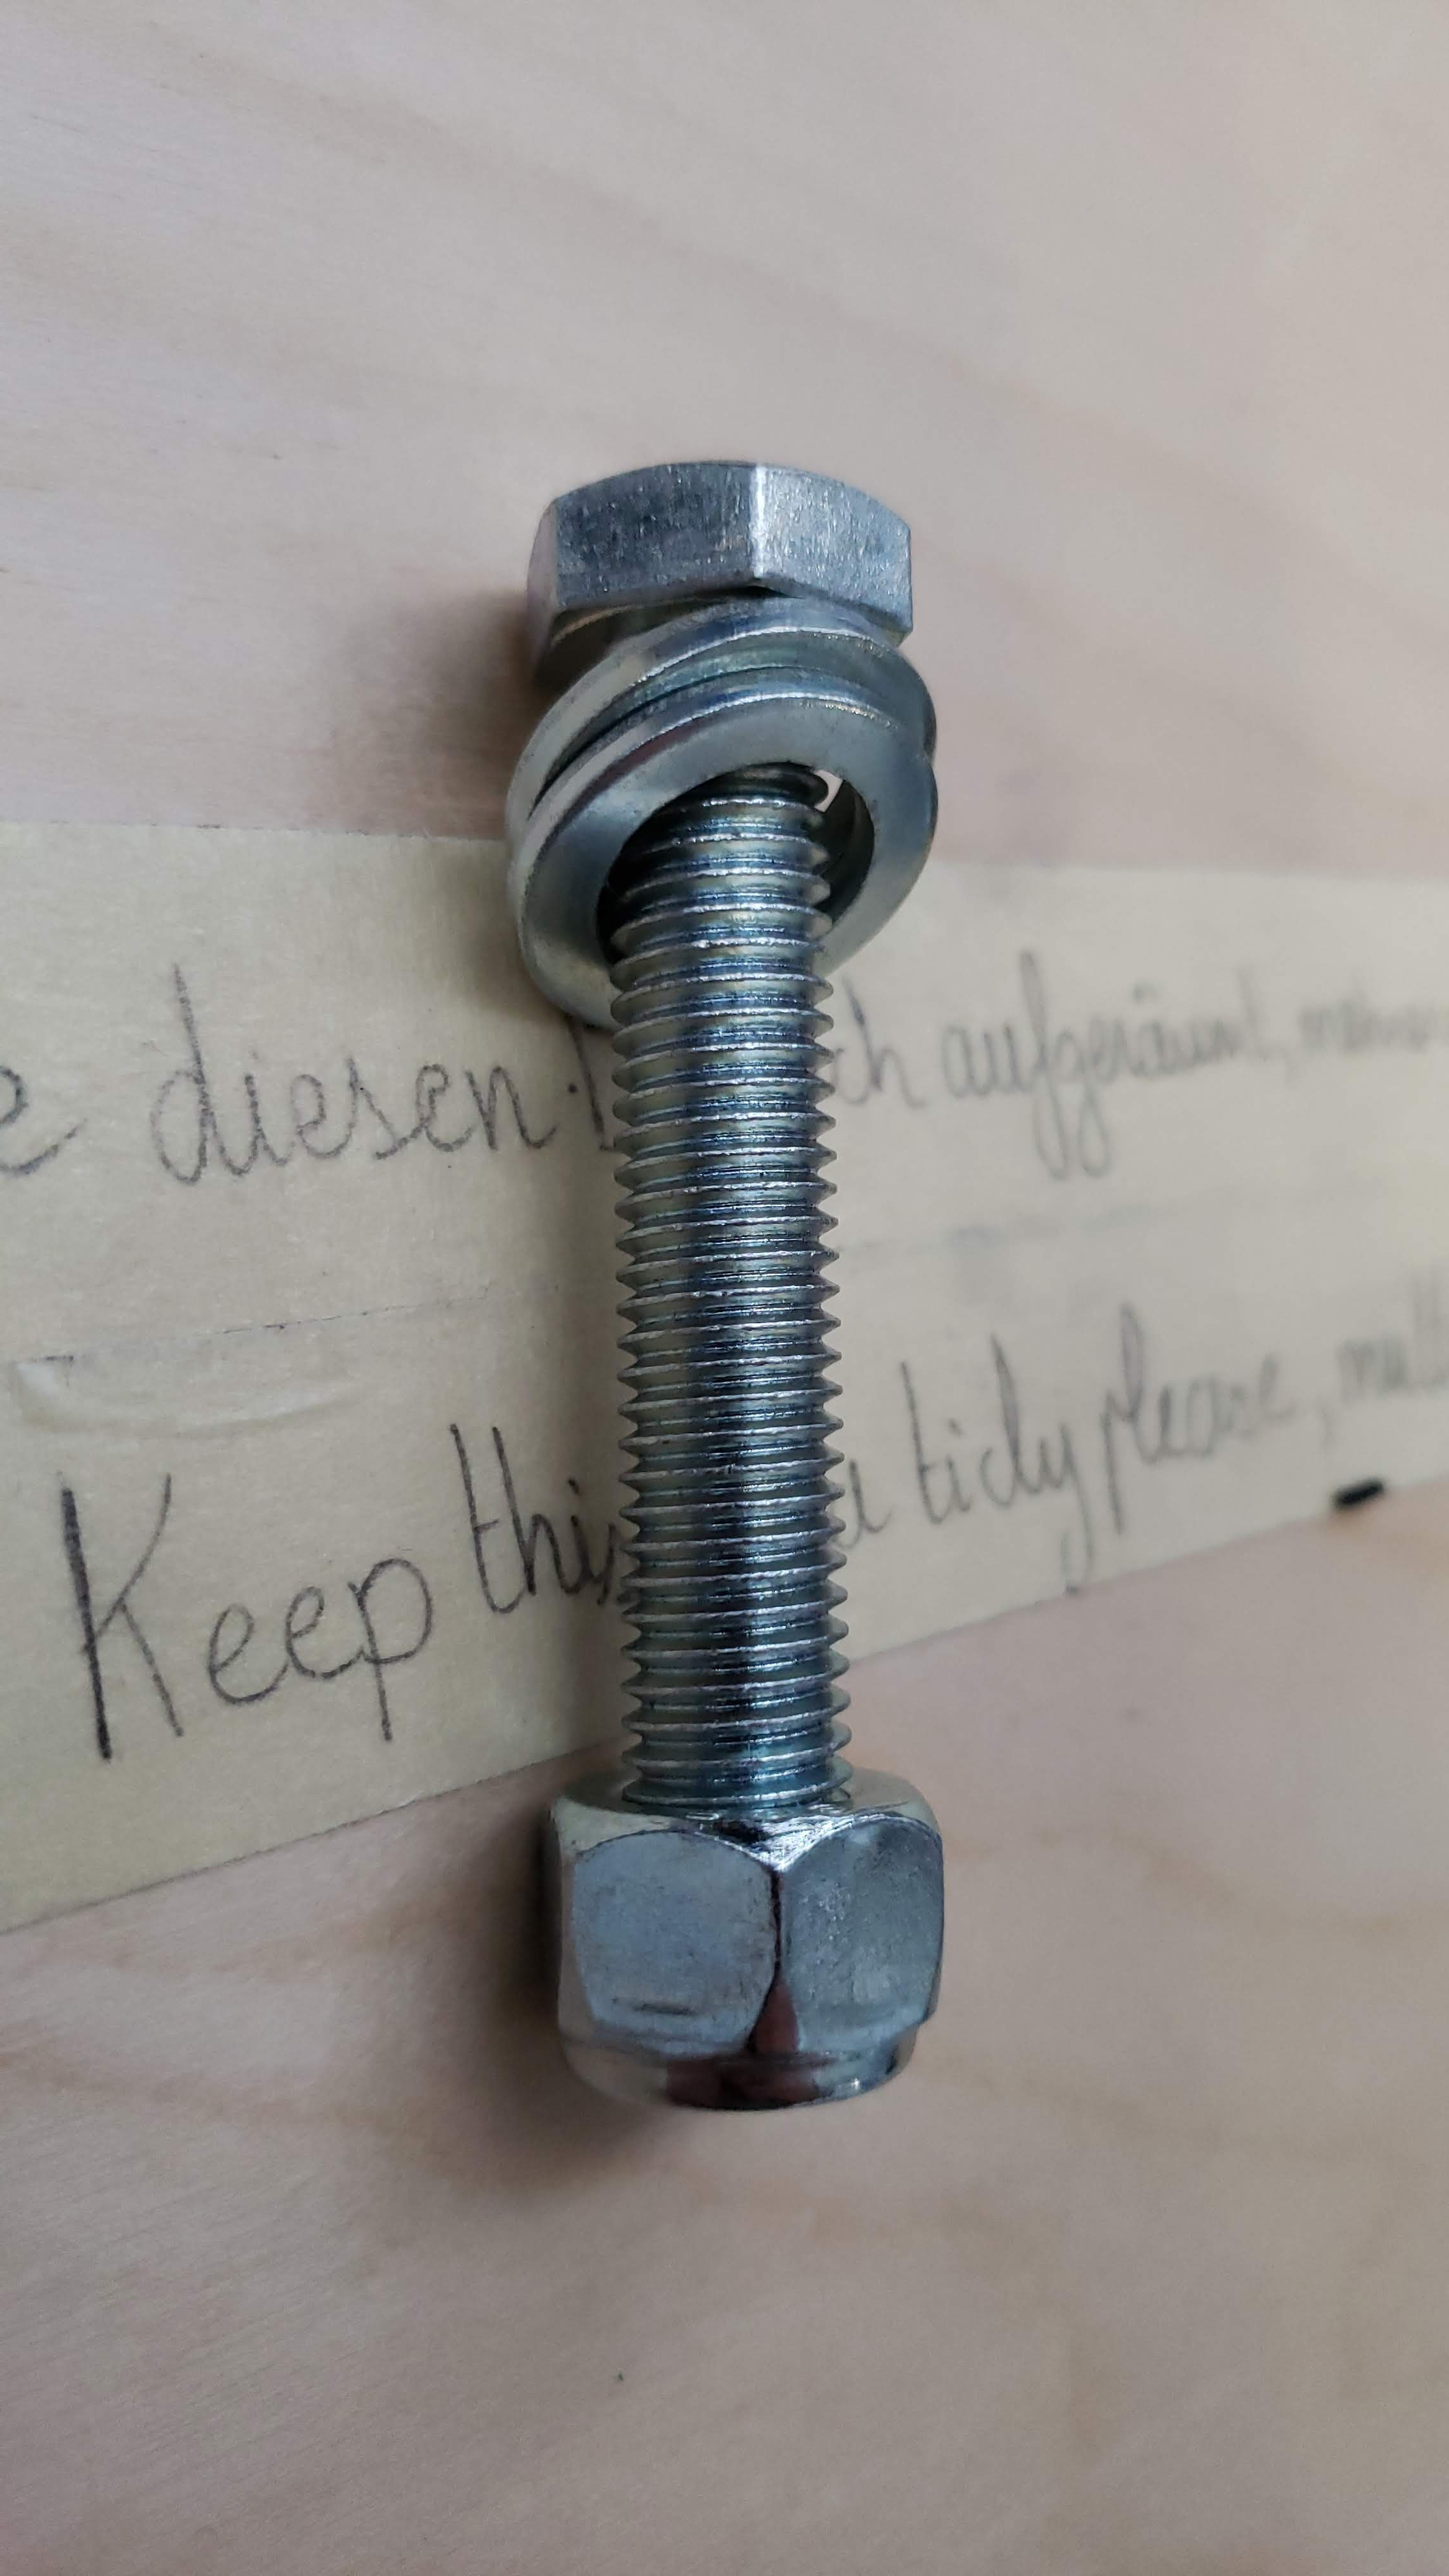FinishedAssembly: (288, 338, 1175, 2263)
